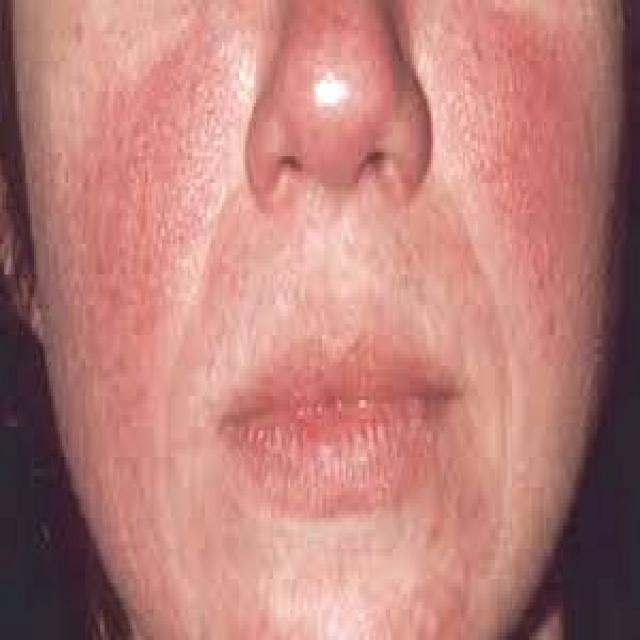Rosacea: (57, 28, 195, 610), (451, 12, 594, 328), (270, 2, 400, 145)
